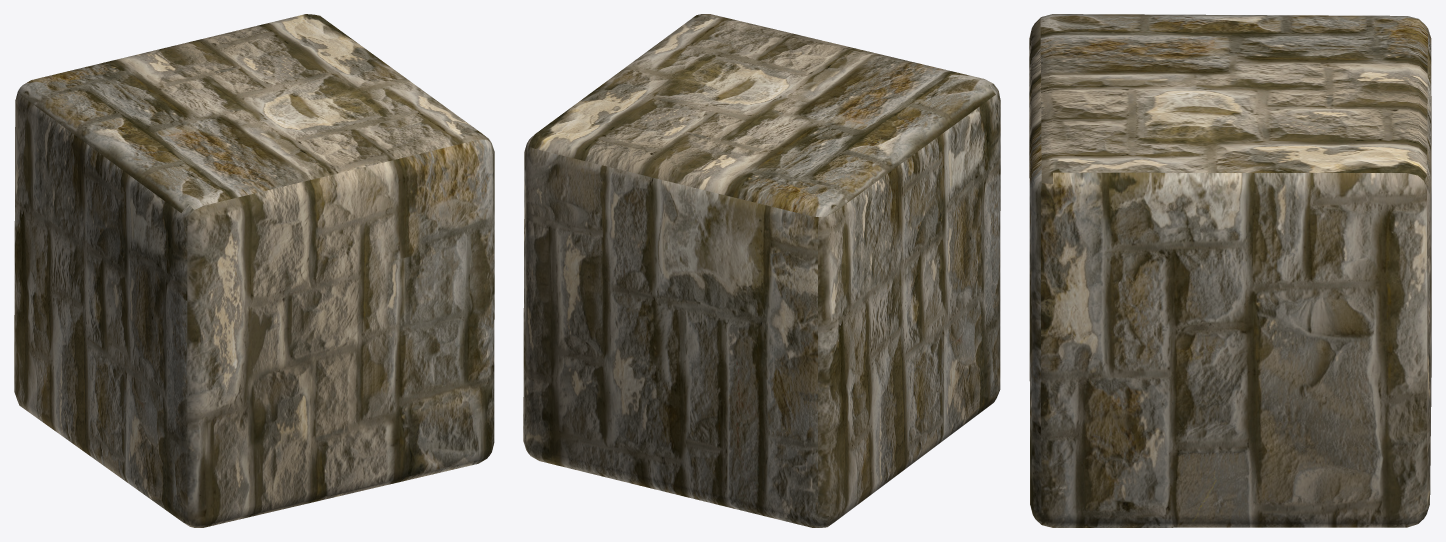
File: stone_block_c.glb
3 renders of one model, left to right at view 1: azimuth 30°, elevation 25°; view 2: azimuth 150°, elevation 25°; view 3: azimuth 270°, elevation 25°, orthographic. The views are drawn at different scales.
Parts seen in each view (by area): view 1: stone_block_c; view 2: stone_block_c; view 3: stone_block_c.
Boxes of the visible parts, x1,y1,x2,y2 form: stone_block_c: (14, 14, 494, 527); stone_block_c: (523, 14, 1000, 527); stone_block_c: (1029, 14, 1431, 527).
Size of the model in its own units: 1.81 by 1.82 by 1.83.
Materials: 1 (1 with a texture image).
